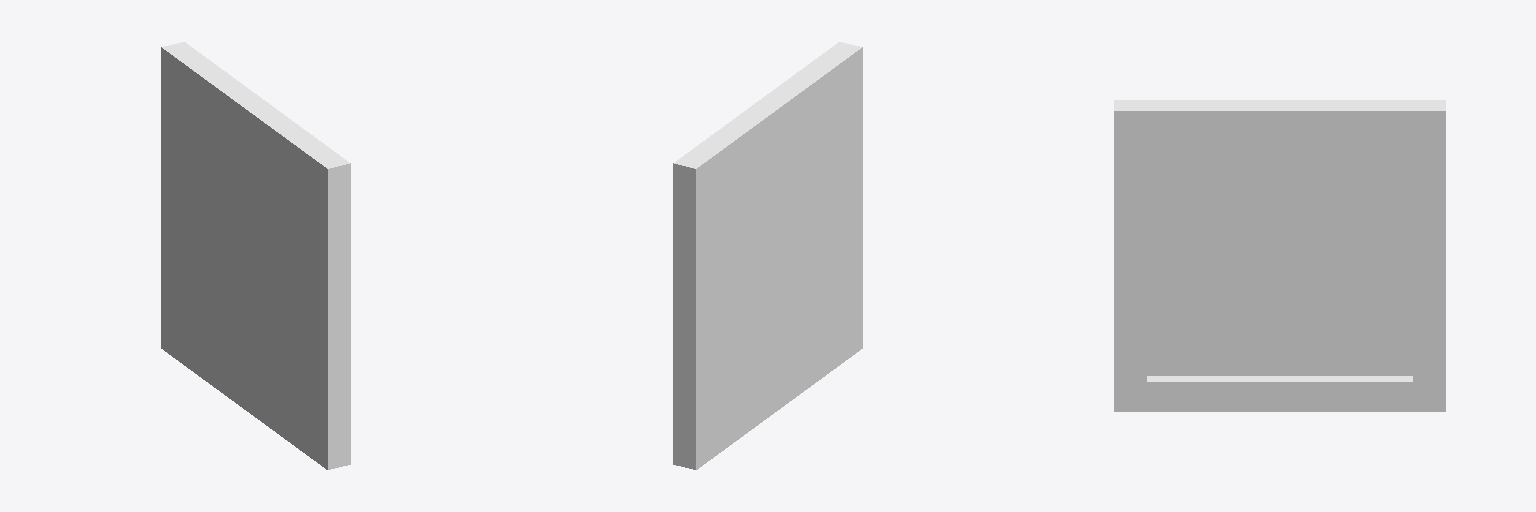
The model's file is paintingframe.obj.
3 renders of one model, left to right at view 1: azimuth 30°, elevation 25°; view 2: azimuth 150°, elevation 25°; view 3: azimuth 270°, elevation 25°, orthographic.
Parts seen in each view (by area): view 1: back, flatL, fancyTL45, middleLB45, flatLB45, simpleT45; view 2: back, flatR, fancyR, fancyTL45, simpleR45, simpleT45; view 3: canvas, flatTL45, flatBR45, simpleT45, simpleBL45, flatLB45, flatR, flatL, flatRT45, flatTR45, back, flatLT45 (+14 smaller).
Boxes of the visible parts, <box> form: back: <box>161,45,335,469</box>; flatL: <box>323,157,350,466</box>; fancyTL45: <box>177,42,349,165</box>; middleLB45: <box>336,166,344,466</box>; flatLB45: <box>336,163,350,467</box>; simpleT45: <box>172,43,347,165</box>; back: <box>688,45,862,469</box>; flatR: <box>673,165,687,467</box>; fancyR: <box>673,154,702,466</box>; fancyTL45: <box>675,42,850,195</box>; simpleR45: <box>673,165,687,467</box>; simpleT45: <box>676,43,845,165</box>; canvas: <box>1147,141,1412,375</box>; flatTL45: <box>1118,104,1444,140</box>; flatBR45: <box>1114,376,1436,411</box>; simpleT45: <box>1114,104,1445,125</box>; simpleBL45: <box>1117,397,1445,411</box>; flatLB45: <box>1114,105,1146,411</box>; flatR: <box>1413,104,1445,411</box>; flatL: <box>1114,105,1146,406</box>; flatRT45: <box>1413,113,1445,409</box>; flatTR45: <box>1118,111,1442,140</box>; back: <box>1114,100,1445,103</box>; flatLT45: <box>1114,116,1146,411</box>.
Size of the model in its own units: 0.08 by 1 by 1.